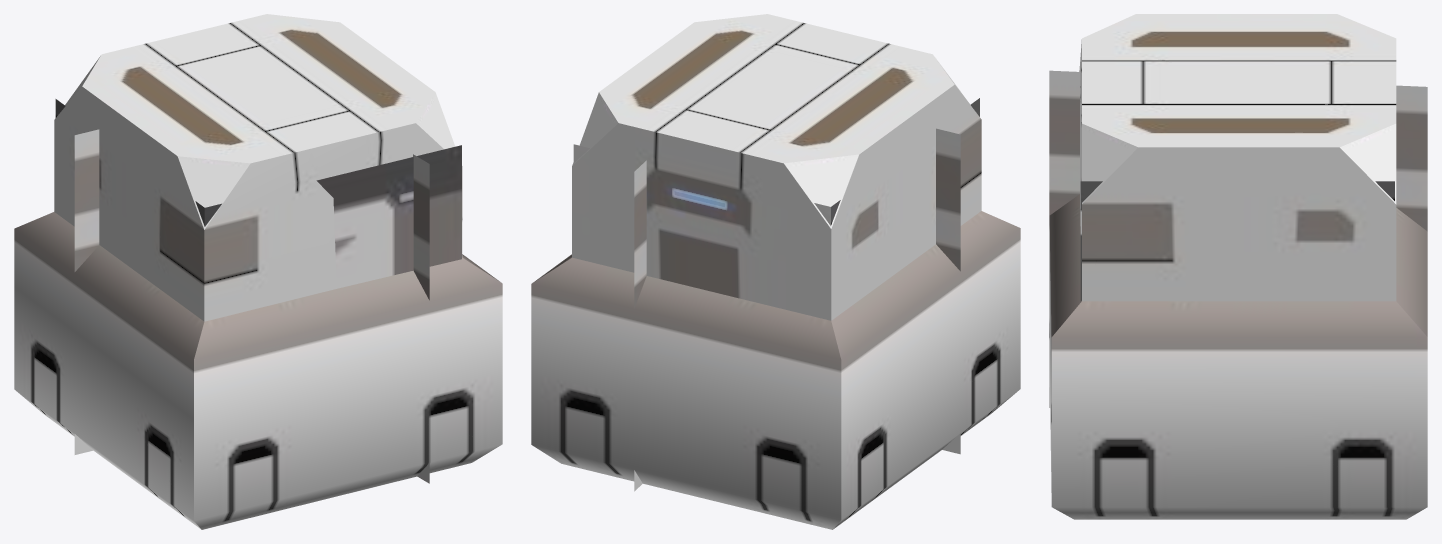
3 renders of one model, left to right at view 1: azimuth 30°, elevation 25°; view 2: azimuth 150°, elevation 25°; view 3: azimuth 270°, elevation 25°, orthographic. The views are drawn at different scales.
Visible parts, largest first — view 1: storage-1-lod1; view 2: storage-1-lod1; view 3: storage-1-lod1.
Boxes of the visible parts, x1,y1,x2,y2 form: storage-1-lod1: (14,14,502,529); storage-1-lod1: (531,14,1020,529); storage-1-lod1: (1049,14,1427,519).
Bounding box in the file's own units: 3 × 3.24 × 3.01.
1 material, 1 textured.
